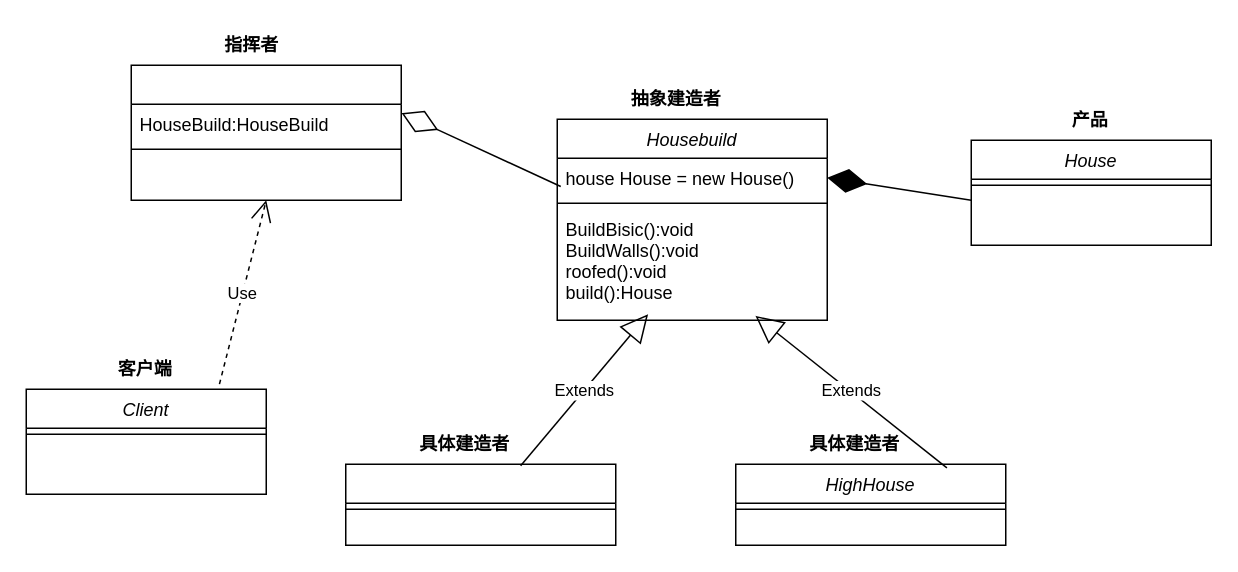
Some shapes in this 1238 by 572 pixel diagram are drawn without their labels. The box of each missing label's shape, as (x1, y1, x2, y2) in pixels:
CommonHouse: (344, 463, 616, 545)
HouseDirector: (130, 64, 401, 200)
